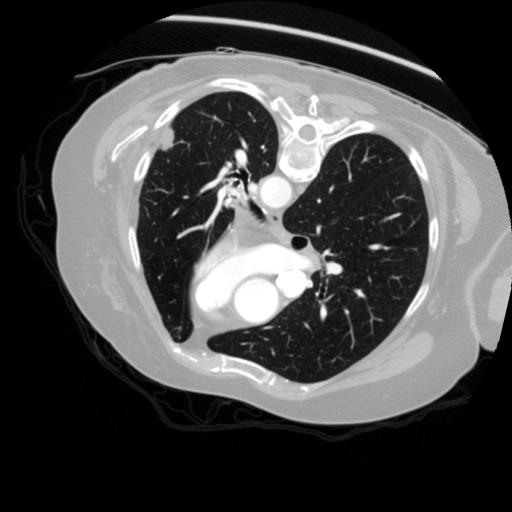nodule: (155, 128, 183, 156)
